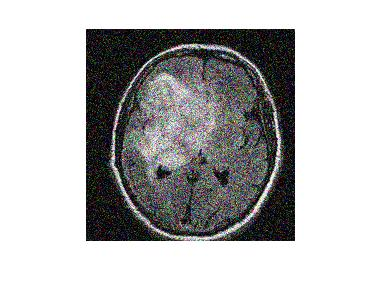Brain_Cancer: (142, 79, 205, 165)
